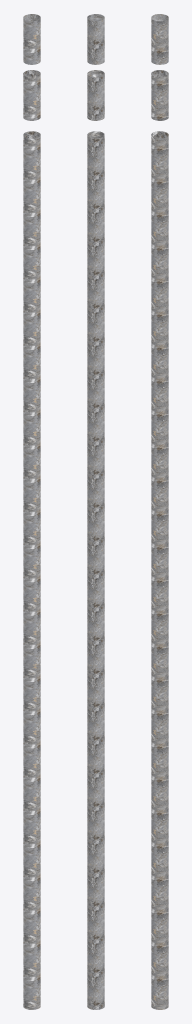
File: tunnel_H3_7.glb
3 renders of one model, left to right at view 1: azimuth 30°, elevation 25°; view 2: azimuth 210°, elevation 25°; view 3: azimuth 330°, elevation 25°, orthographic.
Parts seen in each view (by area): view 1: XSBYSZK_03; view 2: XSBYSZK_03; view 3: XSBYSZK_03.
Boxes of the visible parts, <box> form: XSBYSZK_03: <box>23,14,40,1009</box>; XSBYSZK_03: <box>87,14,104,1009</box>; XSBYSZK_03: <box>151,14,168,1009</box>.
Size of the model in its own units: 8.79 by 545 by 8.6.
Materials: 1 (1 with a texture image).
